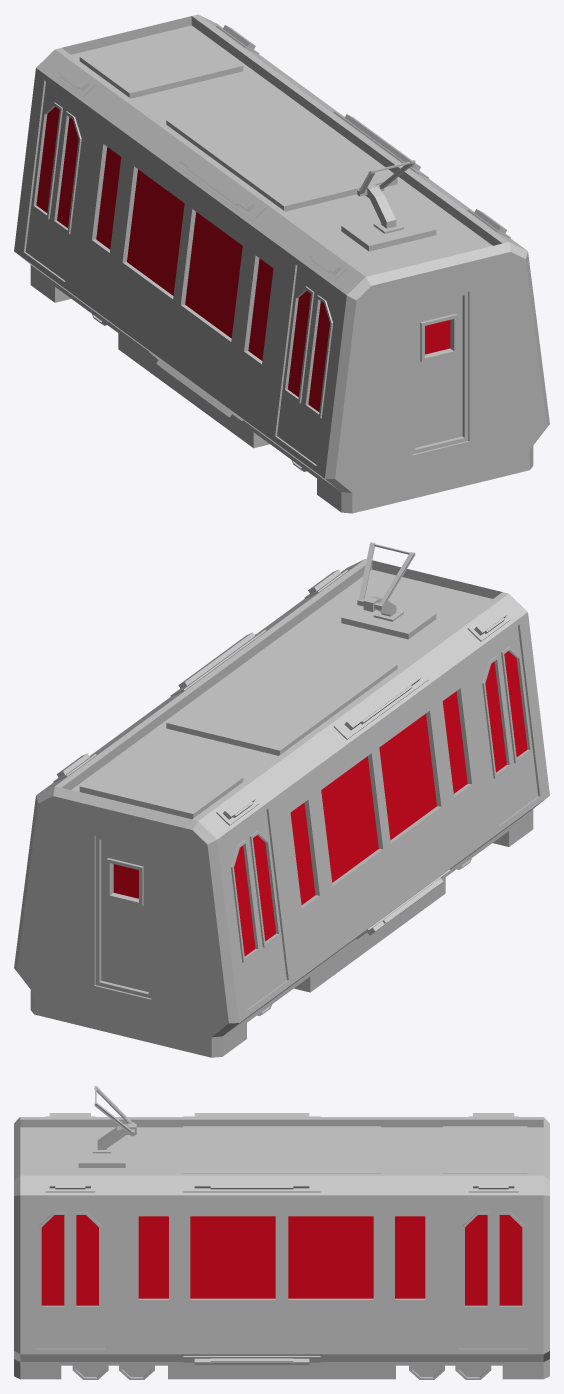
File: SM_suburban_electric_train_02.gltf
The picture shows the model from 3 angles, top to bottom: view 1: azimuth 30°, elevation 25°; view 2: azimuth 150°, elevation 25°; view 3: azimuth 270°, elevation 25°; orthographic projection. The views are drawn at different scales.
Parts seen in each view (by area): view 1: suburban_electric_train_02; view 2: suburban_electric_train_02; view 3: suburban_electric_train_02.
Boxes of the visible parts, x1,y1,x2,y2 form: suburban_electric_train_02: (14, 14, 549, 513); suburban_electric_train_02: (14, 542, 549, 1057); suburban_electric_train_02: (14, 1086, 549, 1379).
Size of the model in its own units: 1.63 by 2.11 by 4.
